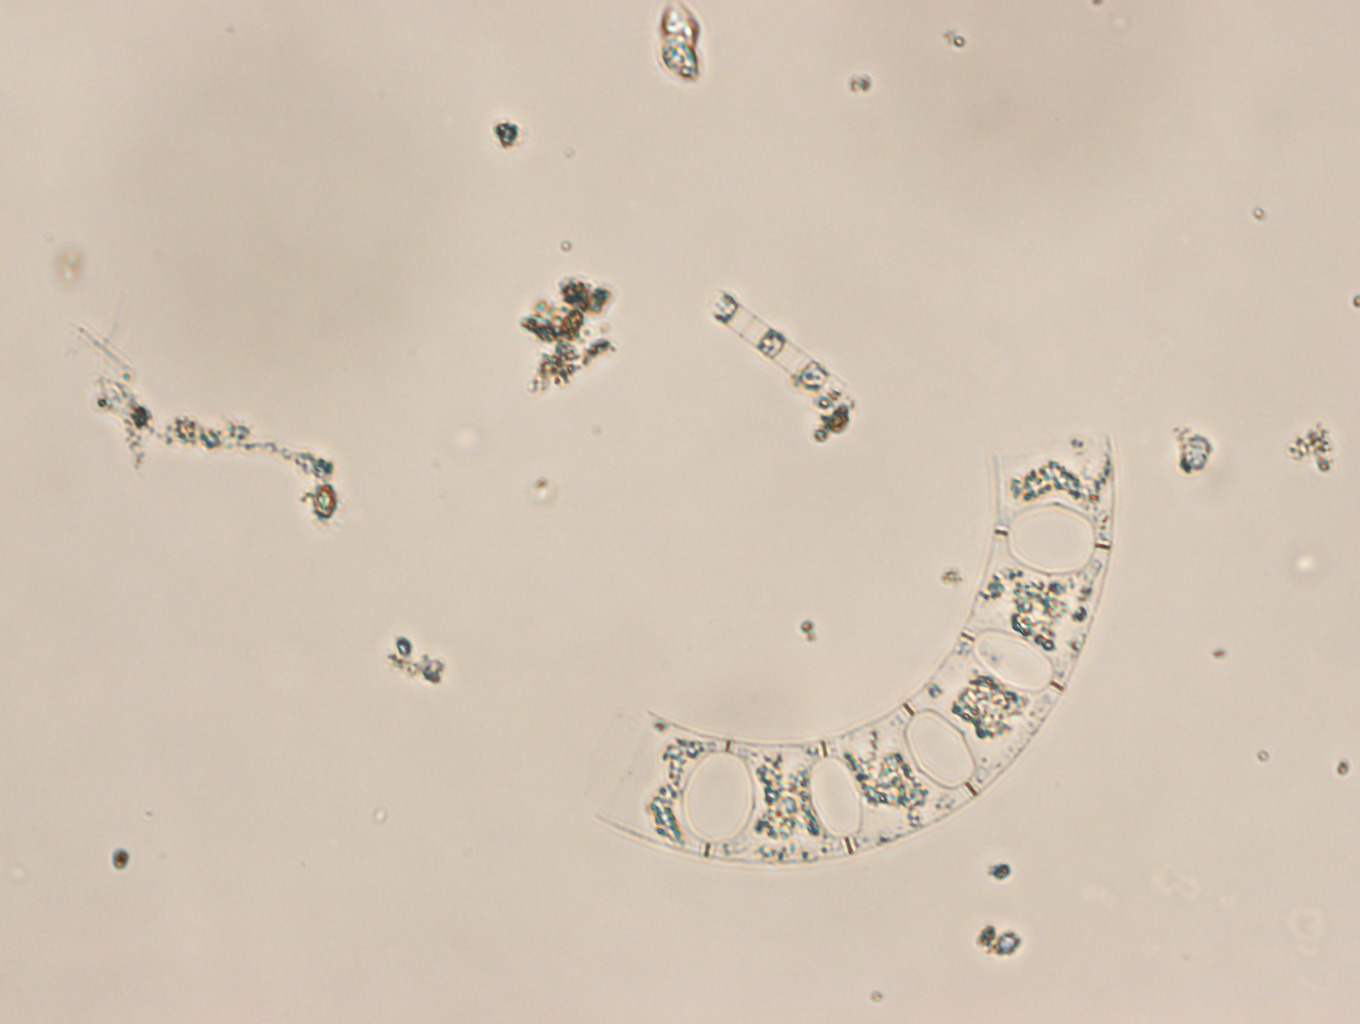eucampia: (589, 431, 1116, 867)
skeletonema: (706, 286, 850, 404)
